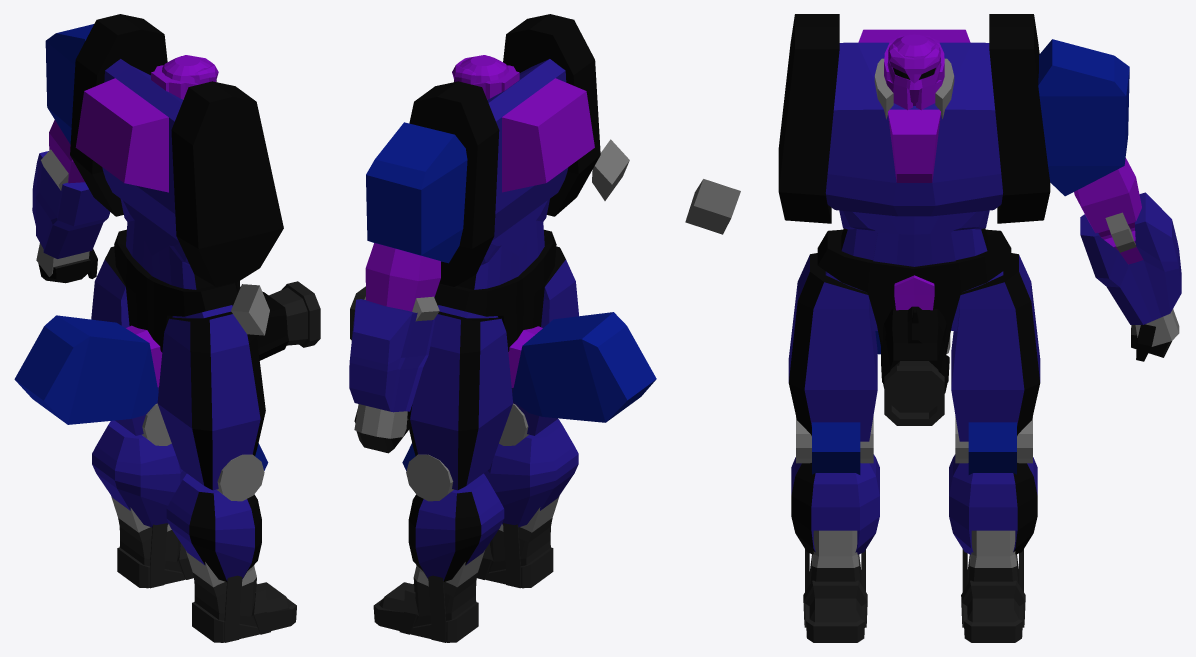
Rendered from Capibrazo.fbx.
3 renders of one model, left to right at view 1: azimuth 30°, elevation 25°; view 2: azimuth 150°, elevation 25°; view 3: azimuth 270°, elevation 25°, orthographic. The views are drawn at different scales.
Parts seen in each view (by area): view 1: Cube.001, Cube.006, Cube.018, Cube.008, Cube, Cube.009, Cube.005, Cube.012, Cube.004, Cylinder.001, Cube.011, Cube.010 (+4 smaller); view 2: Cube.006, Cube.001, Cube.008, Cube.018, Cube, Cube.004, Cube.009, Cube.005, Cube.012, Cube.010, Cylinder.001, Cube.011 (+4 smaller); view 3: Cube, Cube.006, Cube.001, Cube.005, Cube.009, Cube.008, Cube.004, Cube.012, Cube.018, Cube.007, Cube.010, Cube.011 (+7 smaller).
Part boxes in pixels (x1,y1,x2,y2): Cube.001: (70,14,283,286); Cube.006: (91,246,265,490); Cube.018: (14,281,320,424); Cube.008: (92,420,261,581); Cube: (75,59,183,240); Cube.009: (111,496,296,642); Cube.005: (114,199,237,352); Cube.012: (32,151,110,258); Cube.004: (45,24,93,144); Cylinder.001: (142,403,264,501); Cube.011: (41,149,269,335); Cube.010: (49,120,84,183); Cube.006: (407,246,578,490); Cube.001: (409,14,600,286); Cube.008: (408,419,578,581); Cube.018: (350,286,656,422); Cube: (487,59,594,240); Cube.004: (366,122,467,263); Cube.009: (373,495,559,642); Cube.005: (434,199,556,351); Cube.012: (349,299,435,412); Cube.010: (365,243,440,311); Cylinder.001: (406,403,528,501); Cube.011: (412,139,629,321); Cube: (825,29,1002,216); Cube.006: (788,253,1040,441); Cube.001: (778,14,1050,223); Cube.005: (817,210,1011,355); Cube.009: (803,530,1025,642); Cube.008: (791,454,1037,554); Cube.004: (1038,39,1129,196); Cube.012: (1080,192,1181,324); Cube.018: (875,306,950,425); Cube.007: (812,422,1016,474); Cube.010: (1074,158,1143,264); Cube.011: (685,179,740,234).
Bounding box in the file's own units: 331 × 627 × 486.
